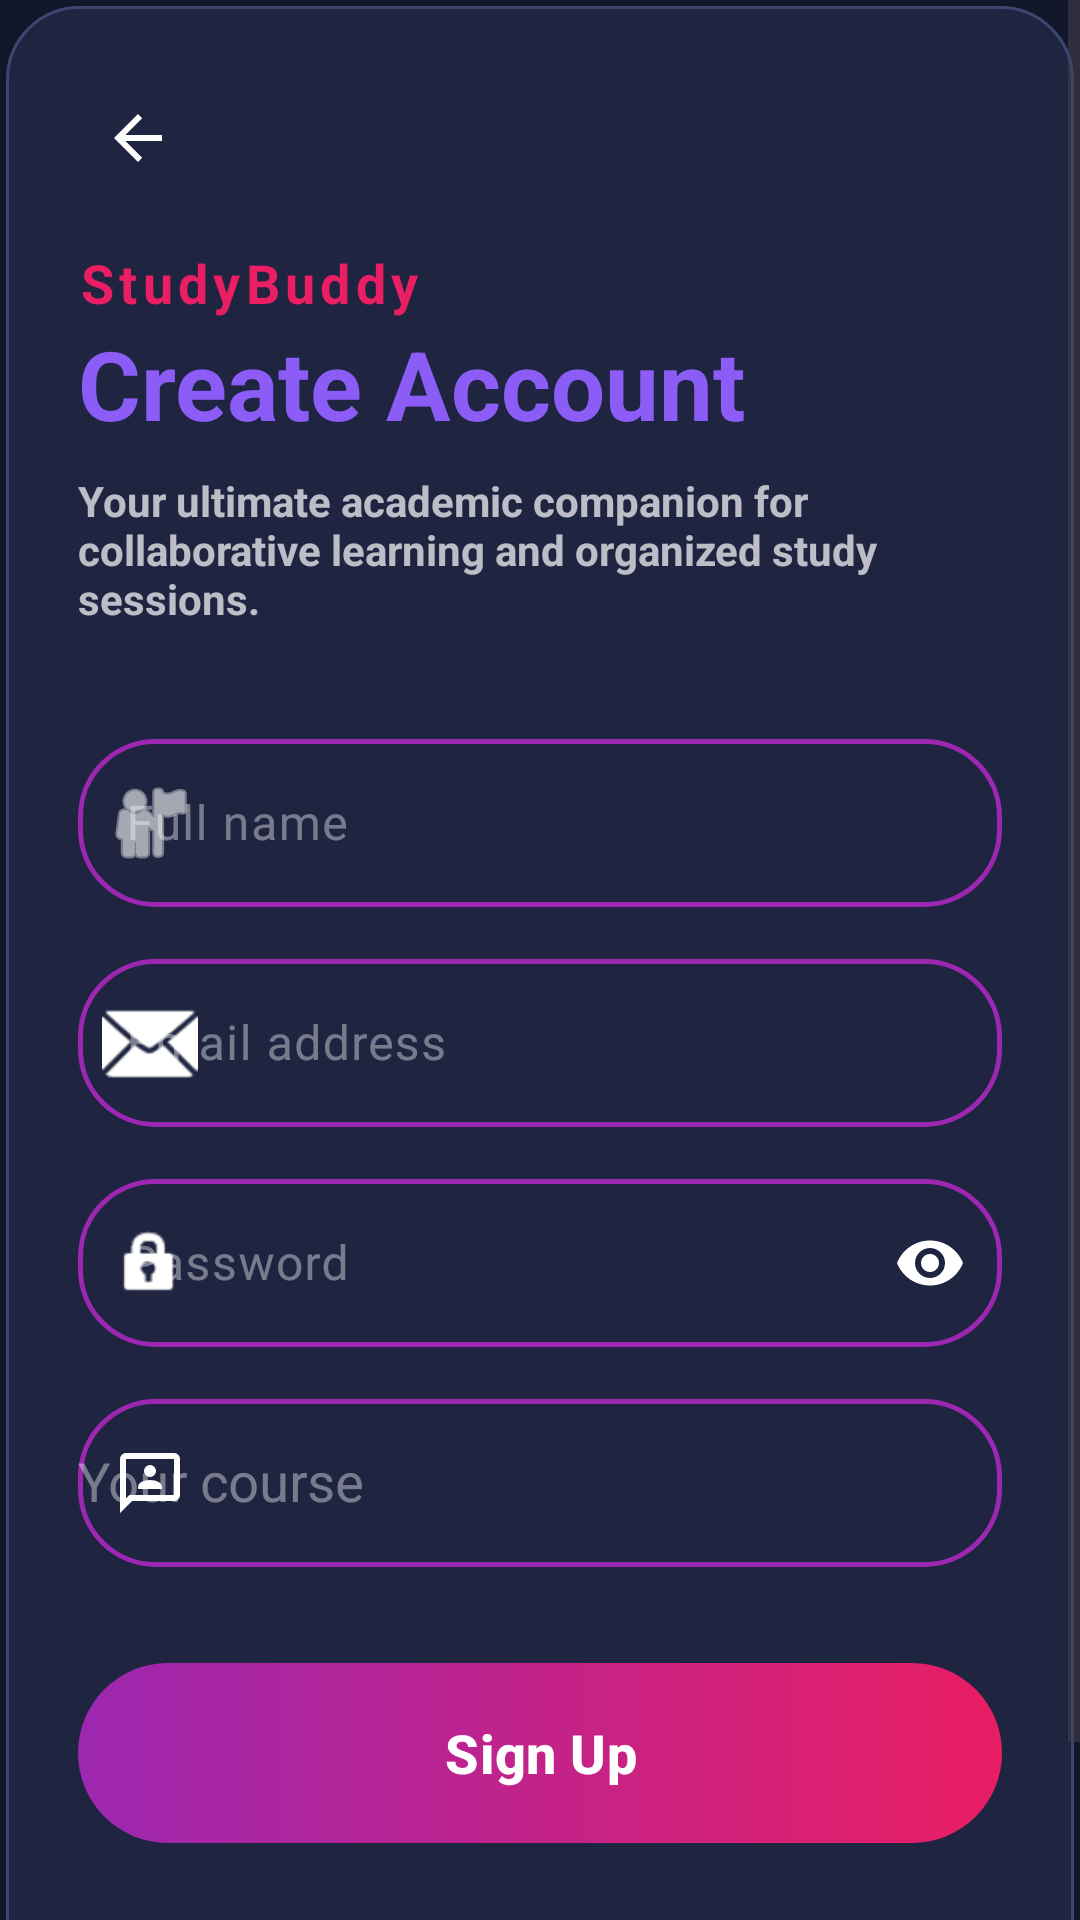

Icon bounding boxes for this 1080x1920 phone screenshot, format detection(x1, y1, x2, y2):
Back: detection(114, 114, 162, 162)
